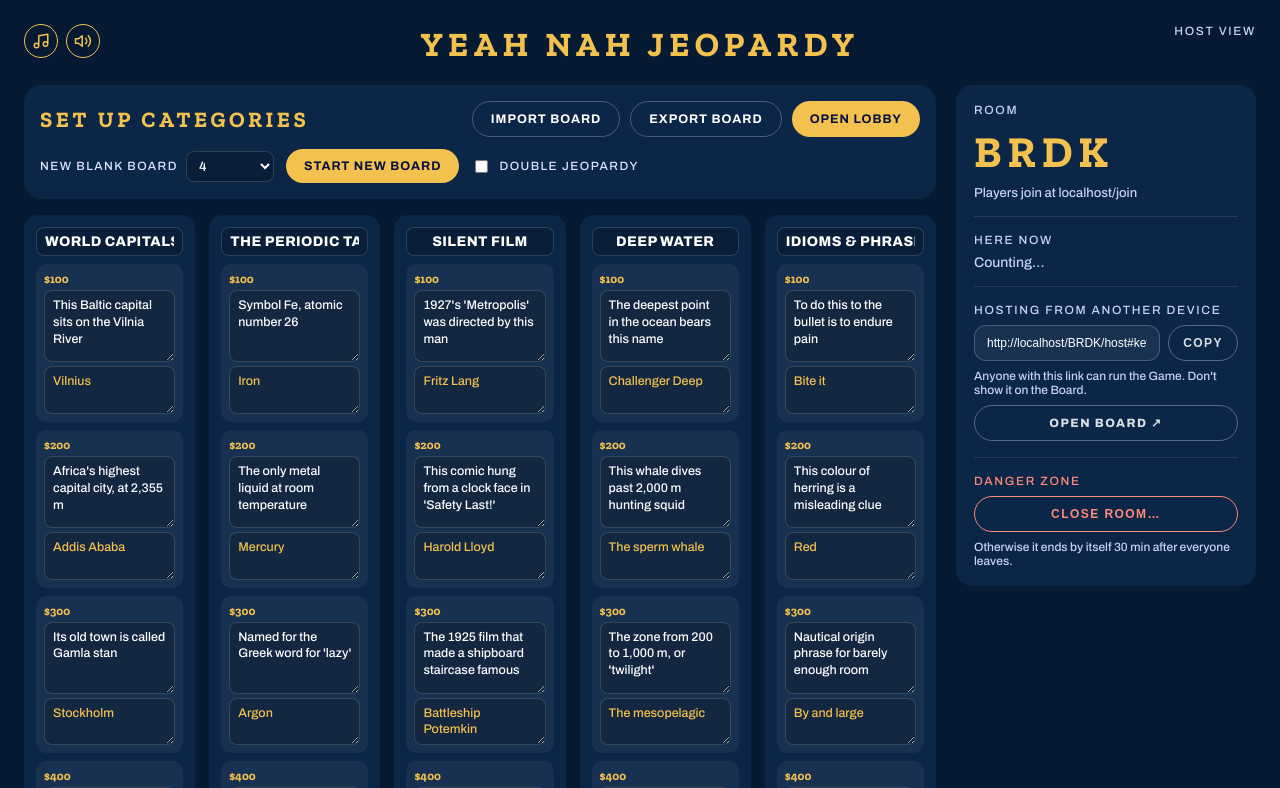
Test: HostPage Room panel › asks before closing the Room, and Cancel backs out without closing it
This screenshot has width=1280, height=788.
Click the button "Close Room…" at [1106, 514], box [974,496,1238,532]
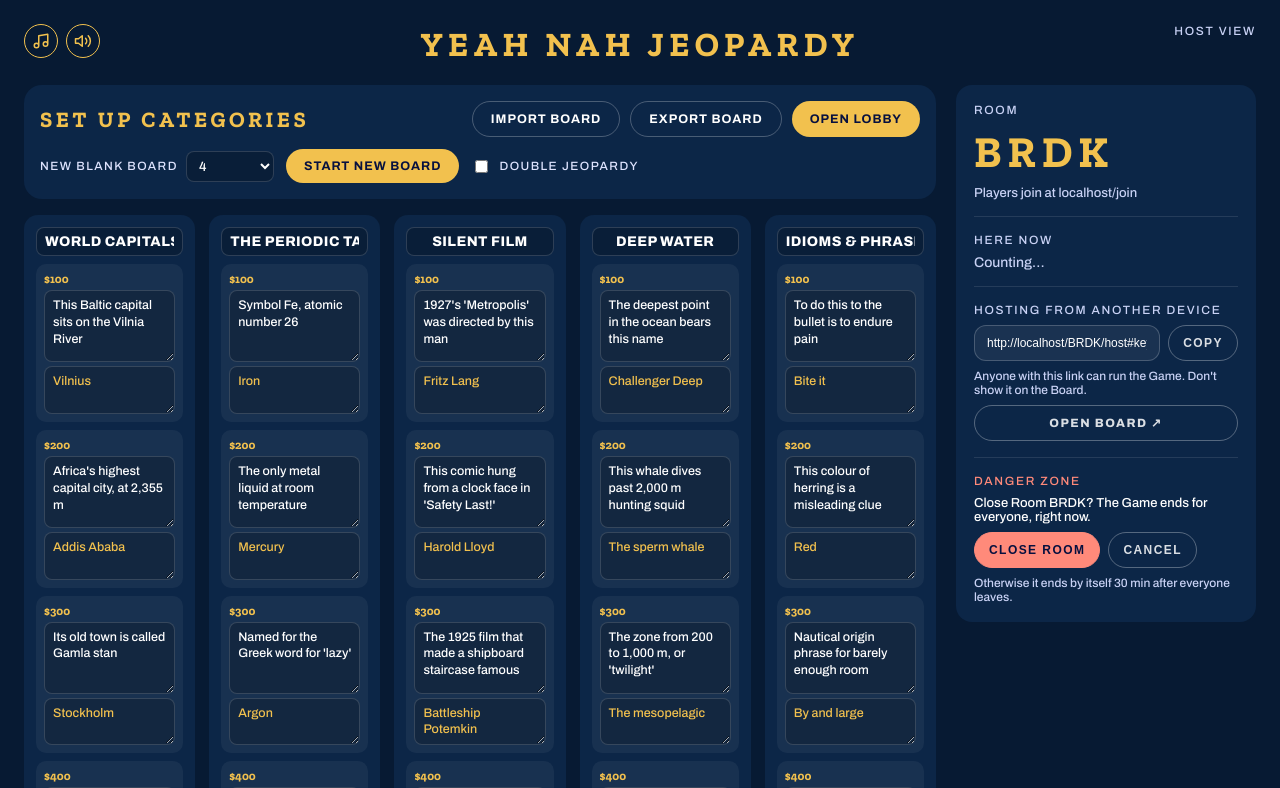
Now the text "Close Room BRDK? The Game ends for everyone, right now." is shown, box [974,496,1238,524]
Click the button "Cancel" at [1153, 550], box [1108,532,1197,568]
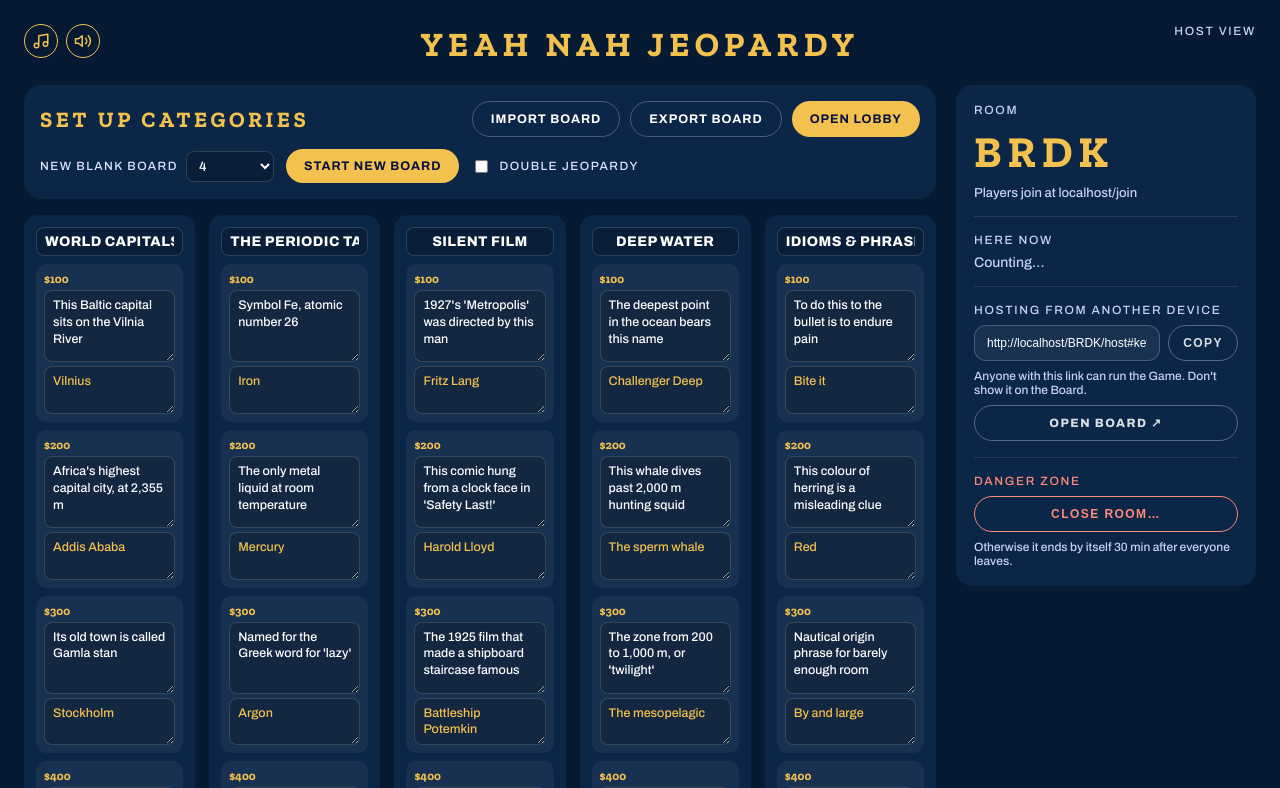
Now the text "The Game ends for everyone" is gone
Now the button "Close Room…" is shown, box [974,496,1238,532]
